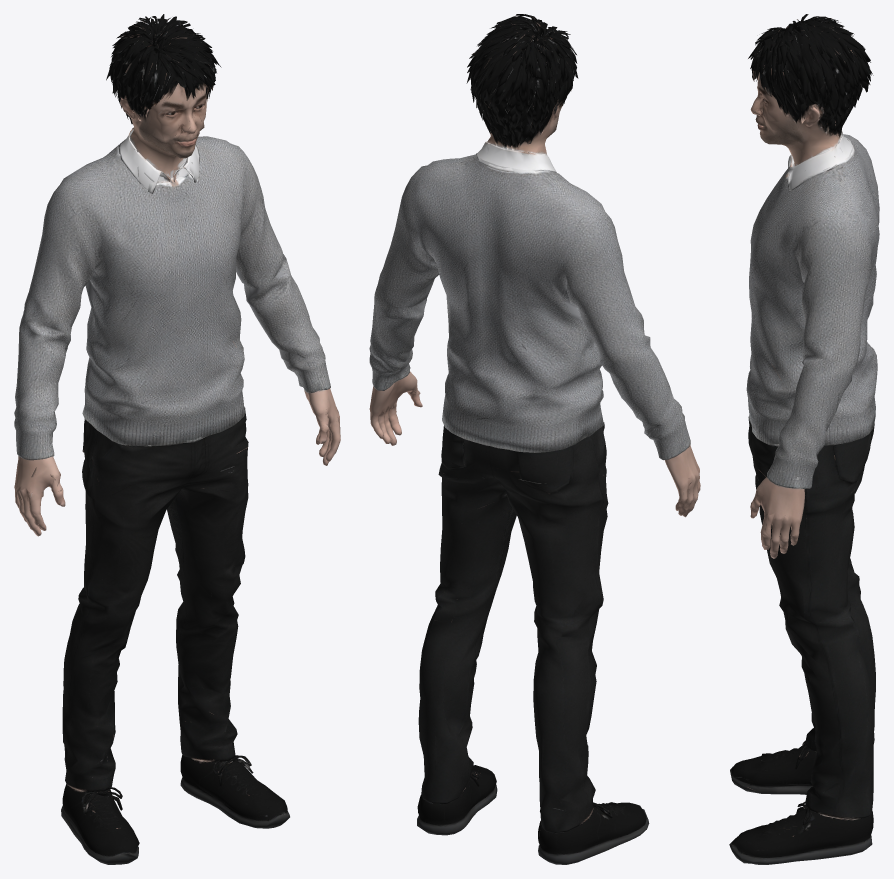
The model's file is Player1.glb.
The picture shows the model from 3 angles, left to right: view 1: azimuth 30°, elevation 25°; view 2: azimuth 150°, elevation 25°; view 3: azimuth 270°, elevation 25°; orthographic projection.
Bounding box in the file's own units: 0.3965 × 0.9497 × 0.1616.
1 material, 1 textured.
